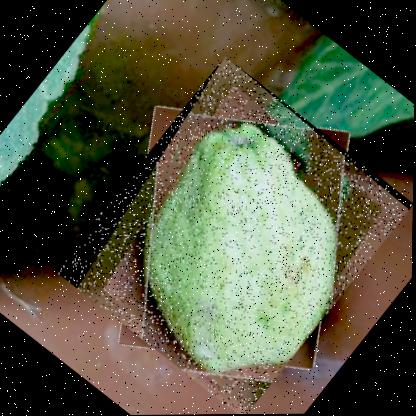guava: (53, 55, 414, 415)
